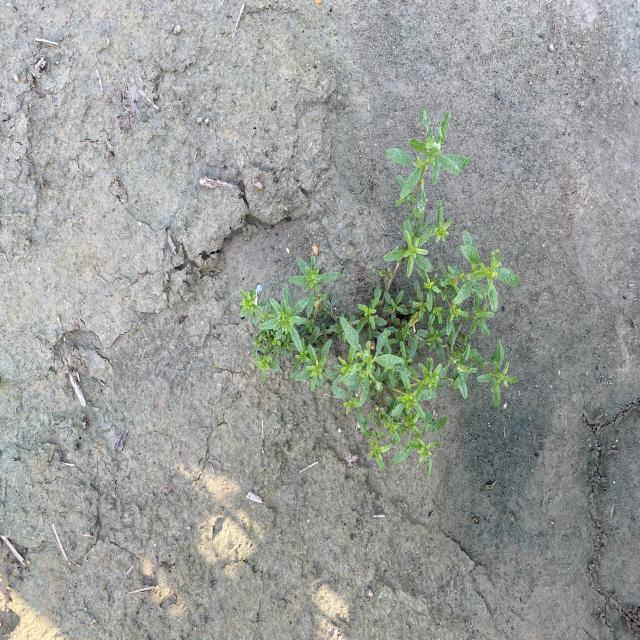Waterhemp: (238, 109, 524, 476)
